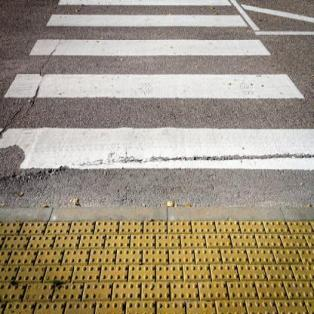Podoctatil: (0, 221, 313, 313)
